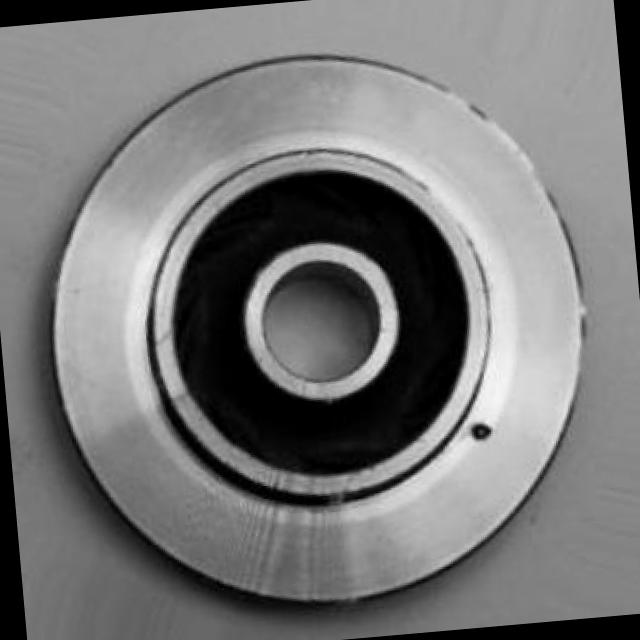Defect: (468, 418, 497, 443)
